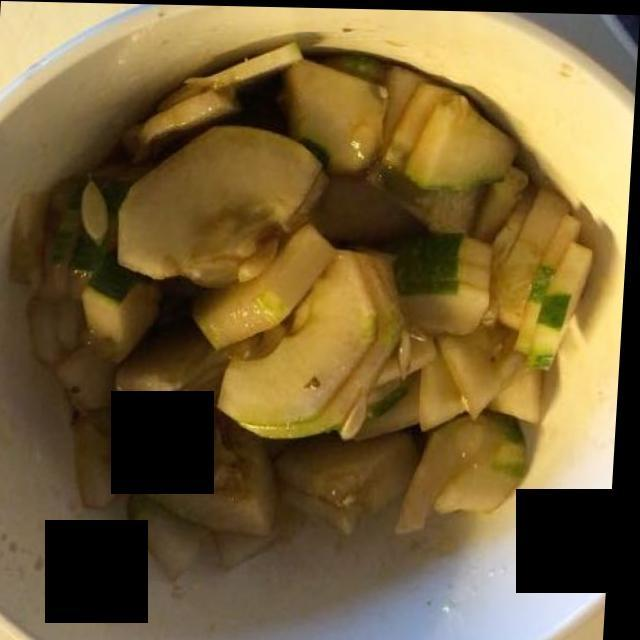cucumber: (22, 70, 607, 580)
